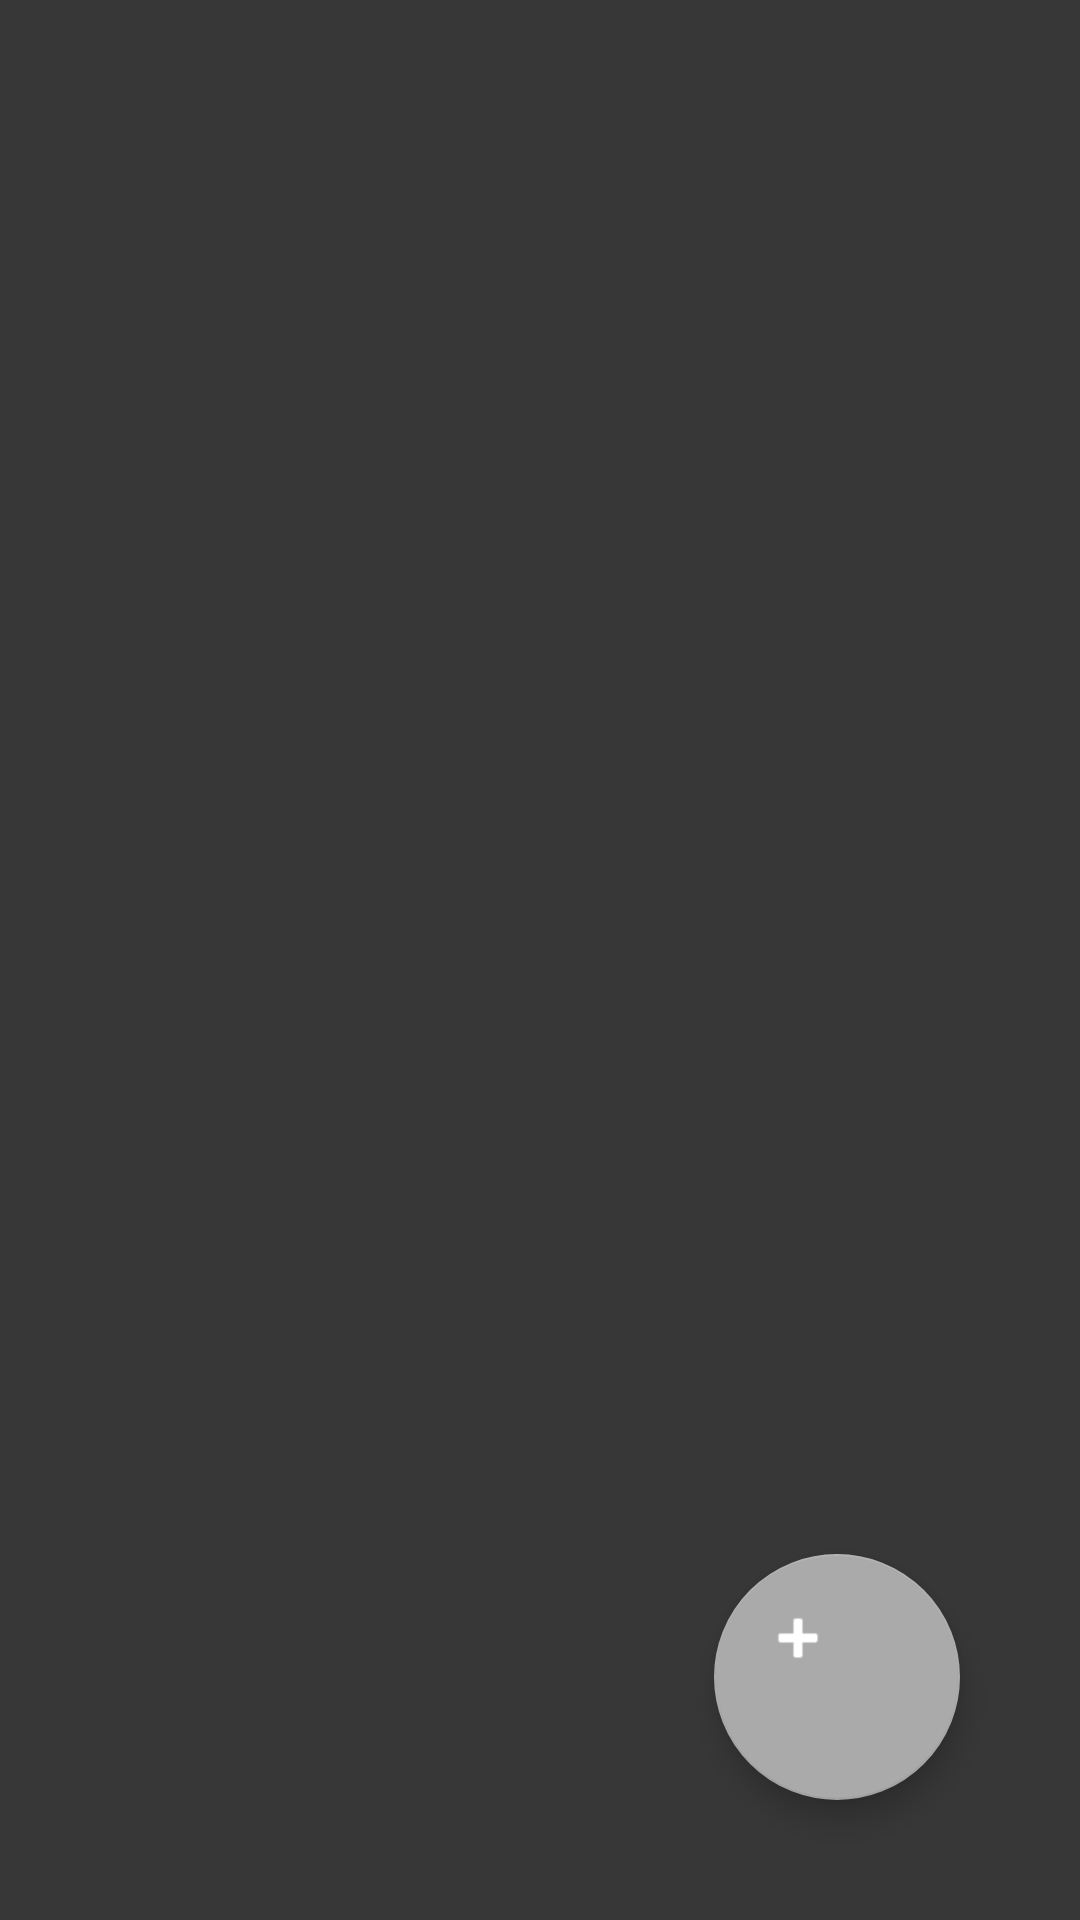

Screen size 1080x1920. Icon name, then its box in pixels as {"left": x1, "top": y1, "right": x2, "bottom": y2}:
add: {"left": 714, "top": 1554, "right": 960, "bottom": 1800}
